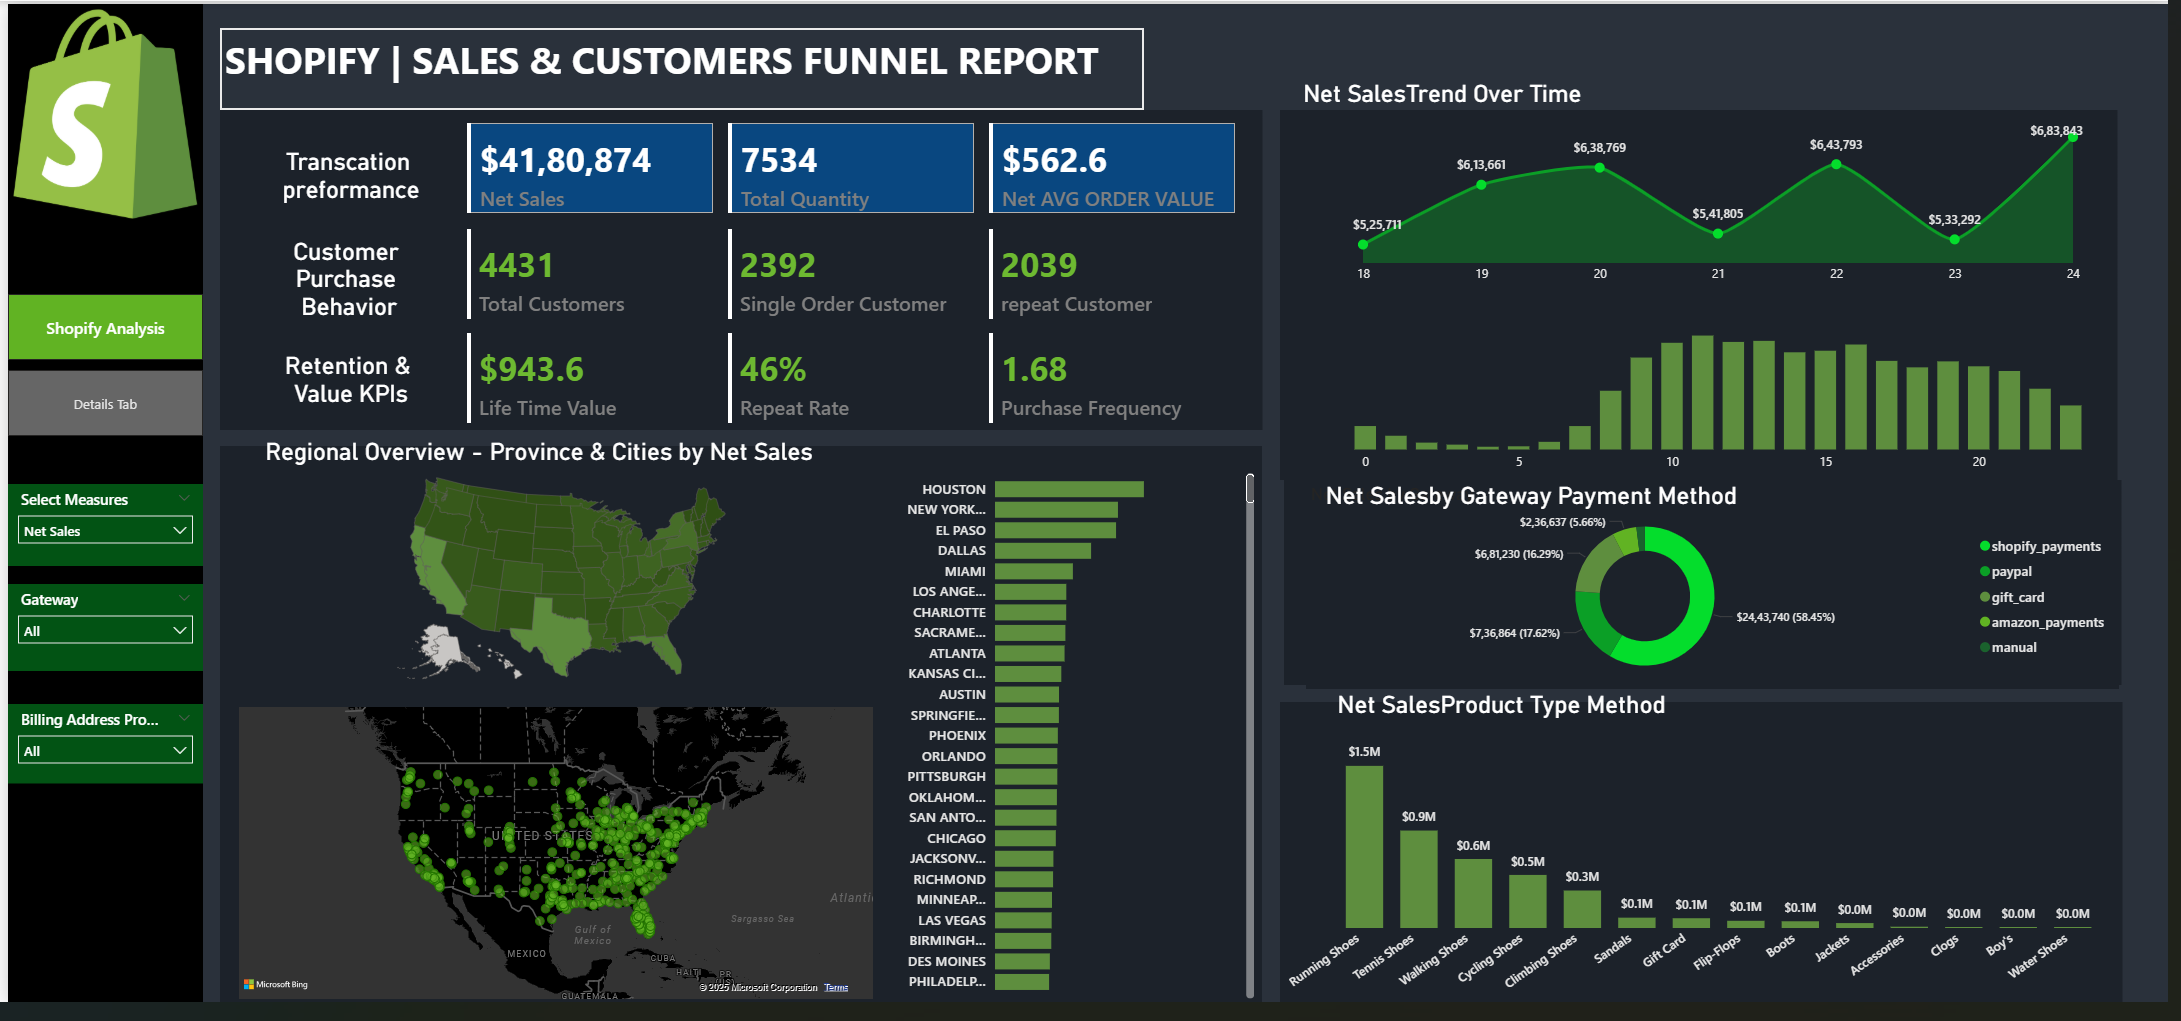

This screenshot's page, from the dashboard's own definition file:
{"tool":"powerbi","page":{"name":"Shopify Analysis","canvas":[2160,1000],"ordinal":0},"visuals":[{"type":"shape","box":[0,0,195,1000],"z":0},{"type":"textbox","box":[212,24,924,82],"z":1000},{"type":"textbox","box":[212.5,105,1042.5,320],"z":2000},{"type":"cardVisual","fields":{"Data":["shopify_sales.Net Sales","shopify_sales.Total Quantity","shopify_sales.Net AVG ORDER VALUE"]},"box":[454,114,778,100],"z":3000},{"type":"card","fields":{"Values":["shopify_sales.Transcation perf"]},"box":[250,120,186,100],"z":4000},{"type":"cardVisual","fields":{"Data":["shopify_sales.Total Customers","shopify_sales.Single Order Customer","shopify_sales.repeat Customer"]},"box":[454,220,778,100],"z":5000},{"type":"card","fields":{"Values":["shopify_sales.Customer Purchase Behavior"]},"box":[250,222,182,102],"z":6000},{"type":"cardVisual","fields":{"Data":["shopify_sales.Life Time Value","shopify_sales.Repeat Rate","shopify_sales.Purchase Frequency"]},"box":[454,324,778,100],"z":7000},{"type":"card","fields":{"Values":["shopify_sales.Retention & Value KPIs"]},"box":[250,324,186,100],"z":8000},{"type":"textbox","box":[212,442,1042,558],"z":9000},{"type":"slicer","fields":{"Values":["Select Measures.Select Measures"]},"box":[0,479.5,194.9,82.1],"z":10000},{"type":"map","fields":{"Category":["shopify_sales.Location"]},"box":[226,698,644,302],"z":11000},{"type":"card","fields":{"Values":["shopify_sales.Map Title"]},"box":[212,426,638,42],"z":12000},{"type":"textbox","box":[1272.5,105,837.5,370],"z":13000},{"type":"areaChart","fields":{"Y":["shopify_sales.Net Sales"],"Category":["shopify_sales.Invoice Date.Variation.Date Hierarchy.Day"]},"box":[1340,107.5,740,180],"z":14000},{"type":"columnChart","fields":{"Y":["shopify_sales.Net Sales"],"Category":["shopify_sales.Hour"]},"box":[1340,287.5,740,187.5],"z":15000},{"type":"card","fields":{"Values":["shopify_sales.Trend Title"]},"box":[1274.4,64.1,320.5,48.7],"z":16000},{"type":"textbox","box":[1275,475,837.5,205],"z":17000},{"type":"donutChart","fields":{"Y":["shopify_sales.Net Sales"],"Category":["shopify_sales.Gateway"]},"box":[1297.4,479.5,812.8,205.1],"z":18000},{"type":"card","fields":{"Values":["shopify_sales.Geteway Title"]},"box":[1252.5,467.5,542.5,45],"z":19000},{"type":"textbox","box":[1272.5,697.5,842.5,305],"z":20000},{"type":"columnChart","fields":{"Y":["shopify_sales.Net Sales"],"Category":["shopify_sales.Product Type"]},"box":[1275,720,835,285],"z":21000},{"type":"card","fields":{"Values":["shopify_sales.Product Type Method"]},"box":[1275,680,435,40],"z":22000},{"type":"image","box":[0,0,195,220],"z":23000},{"type":"shapeMap","fields":{"Value":["shopify_sales.Net Sales"],"Category":["shopify_sales.Billing Address Province"]},"box":[225,457.5,645,222.5],"z":24000},{"type":"slicer","fields":{"Values":["shopify_sales.Gateway"]},"box":[0,579.5,194.9,87.2],"z":25000},{"type":"shapeMap","fields":{"Value":["shopify_sales.Net Sales"],"Category":["shopify_sales.Billing Address Province"]},"box":[235,467.5,645,222.5],"z":26000},{"type":"slicer","fields":{"Values":["shopify_sales.Billing Address Province"]},"box":[0,700,194.9,79.5],"z":27000},{"type":"clusteredBarChart","fields":{"Y":["shopify_sales.Net Sales"],"Category":["shopify_sales.CITY"]},"box":[882.1,456.4,369.2,543.6],"z":28000},{"type":"pageNavigator","box":[0,290,195,142.5],"z":29000}]}

Visuals, with their boxes on the page's 2160x1000 design canvas (x1, y1, x2, y2). These are canvas units, not pixel positions in the 2181x1021 screenshot, which may show the page scaled, cropped or inside an application window:
shape: left=0, top=0, right=195, bottom=1000
textbox: left=212, top=24, right=1136, bottom=106
textbox: left=212, top=105, right=1255, bottom=425
cardVisual - shopify_sales.Net Sales x shopify_sales.Total Quantity: left=454, top=114, right=1232, bottom=214
card - shopify_sales.Transcation perf: left=250, top=120, right=436, bottom=220
cardVisual - shopify_sales.Total Customers x shopify_sales.Single Order Customer: left=454, top=220, right=1232, bottom=320
card - shopify_sales.Customer Purchase Behavior: left=250, top=222, right=432, bottom=324
cardVisual - shopify_sales.Life Time Value x shopify_sales.Repeat Rate: left=454, top=324, right=1232, bottom=424
card - shopify_sales.Retention & Value KPIs: left=250, top=324, right=436, bottom=424
textbox: left=212, top=442, right=1254, bottom=1000
slicer - Select Measures.Select Measures: left=0, top=480, right=195, bottom=562
map - shopify_sales.Location: left=226, top=698, right=870, bottom=1000
card - shopify_sales.Map Title: left=212, top=426, right=850, bottom=468
textbox: left=1272, top=105, right=2110, bottom=475
areaChart - shopify_sales.Net Sales x shopify_sales.Invoice Date.Variation.Date Hierarchy.Day: left=1340, top=108, right=2080, bottom=288
columnChart - shopify_sales.Net Sales x shopify_sales.Hour: left=1340, top=288, right=2080, bottom=475
card - shopify_sales.Trend Title: left=1274, top=64, right=1595, bottom=113
textbox: left=1275, top=475, right=2112, bottom=680
donutChart - shopify_sales.Net Sales x shopify_sales.Gateway: left=1297, top=480, right=2110, bottom=685
card - shopify_sales.Geteway Title: left=1252, top=468, right=1795, bottom=512
textbox: left=1272, top=698, right=2115, bottom=1002
columnChart - shopify_sales.Net Sales x shopify_sales.Product Type: left=1275, top=720, right=2110, bottom=1005
card - shopify_sales.Product Type Method: left=1275, top=680, right=1710, bottom=720
image: left=0, top=0, right=195, bottom=220
shapeMap - shopify_sales.Net Sales x shopify_sales.Billing Address Province: left=225, top=458, right=870, bottom=680
slicer - shopify_sales.Gateway: left=0, top=580, right=195, bottom=667
shapeMap - shopify_sales.Net Sales x shopify_sales.Billing Address Province: left=235, top=468, right=880, bottom=690
slicer - shopify_sales.Billing Address Province: left=0, top=700, right=195, bottom=780
clusteredBarChart - shopify_sales.Net Sales x shopify_sales.CITY: left=882, top=456, right=1251, bottom=1000
pageNavigator: left=0, top=290, right=195, bottom=432
